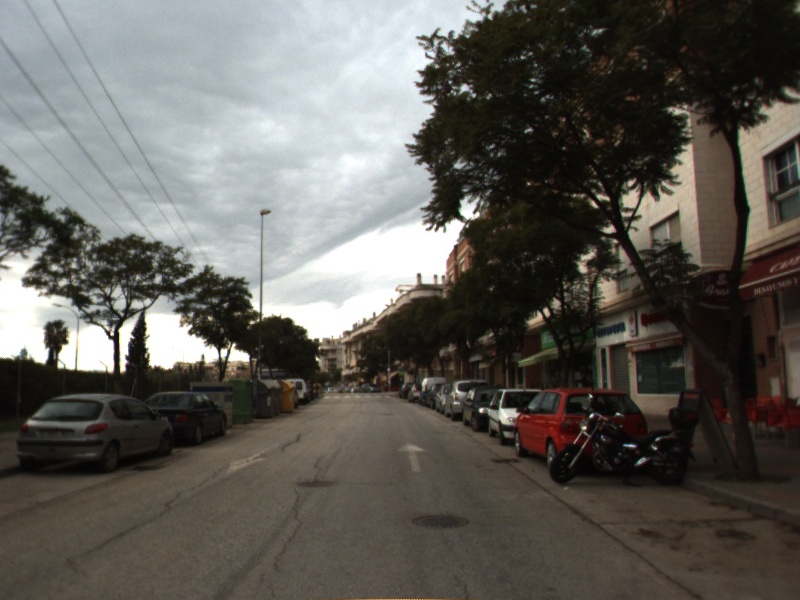STRAIGHT: (395, 439, 430, 473)
